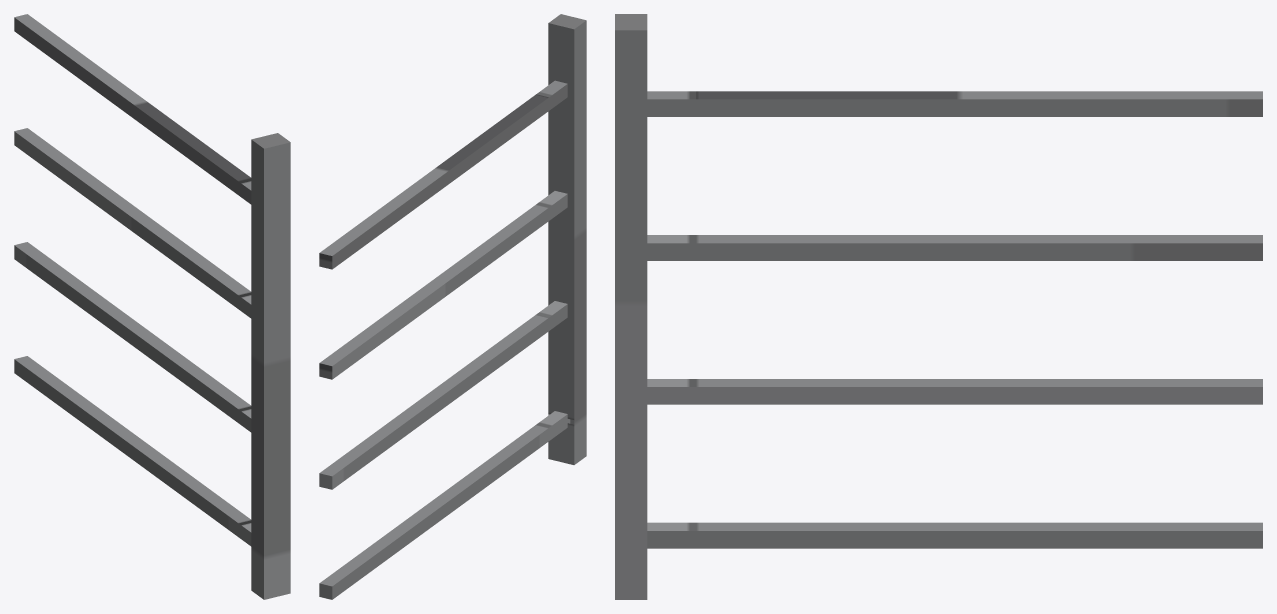
The picture shows the model from 3 angles, left to right: view 1: azimuth 30°, elevation 25°; view 2: azimuth 150°, elevation 25°; view 3: azimuth 270°, elevation 25°; orthographic projection. The views are drawn at different scales.
Size of the model in its own units: 0.06 by 0.97 by 1.
